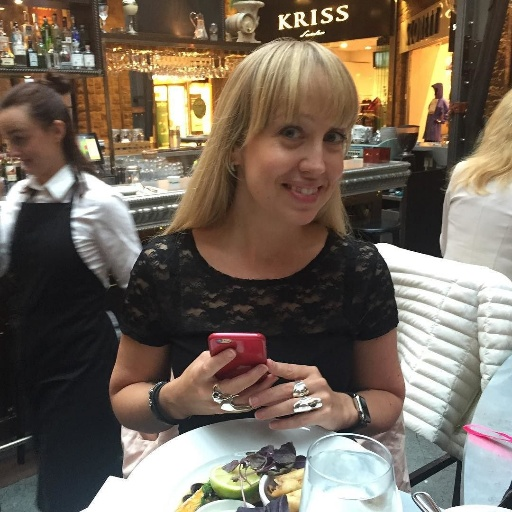hand: (150, 347, 300, 425), (247, 357, 347, 431)
